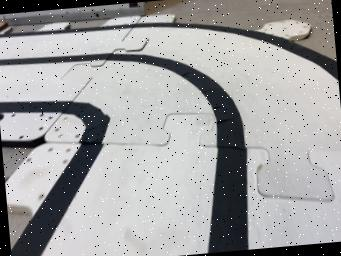street: (0, 22, 341, 256), (0, 22, 341, 256), (0, 22, 341, 256), (0, 22, 341, 256), (0, 22, 341, 256), (0, 22, 341, 256)
